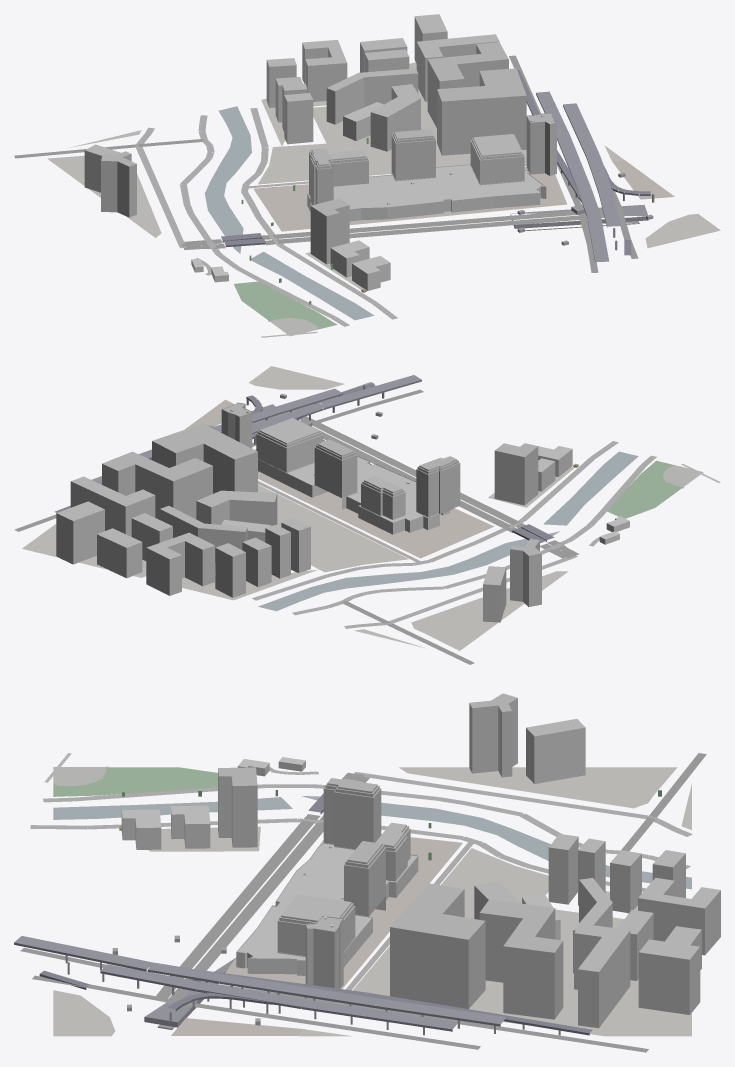
The picture shows the model from 3 angles, top to bottom: view 1: azimuth 30°, elevation 25°; view 2: azimuth 150°, elevation 25°; view 3: azimuth 270°, elevation 25°; orthographic projection. The views are drawn at different scales.
Size of the model in its own units: 557 by 78.99 by 553.
